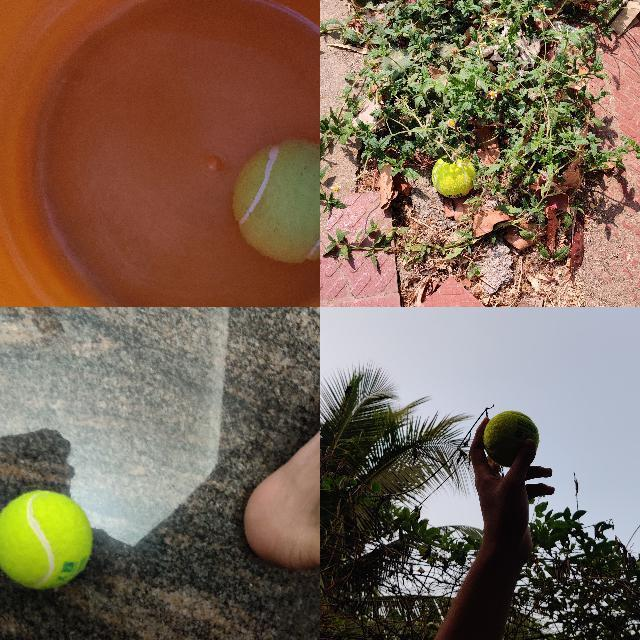tennis-ball: (231, 139, 319, 263), (0, 489, 94, 589), (483, 409, 540, 467), (432, 165, 473, 198)
